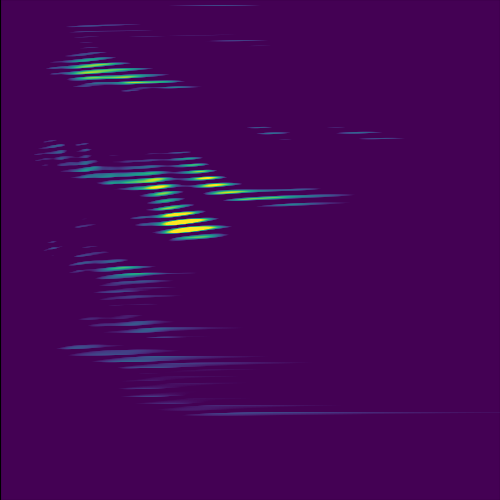semblance: (63, 46, 156, 93), (151, 203, 227, 244), (128, 169, 176, 197)
